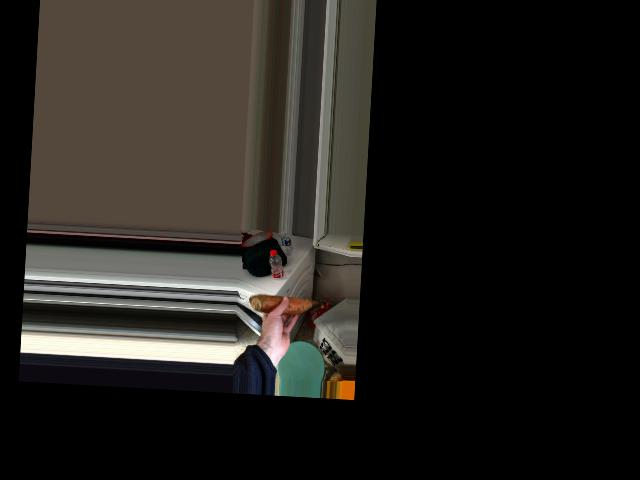sweet_potato: (255, 295, 315, 316)
